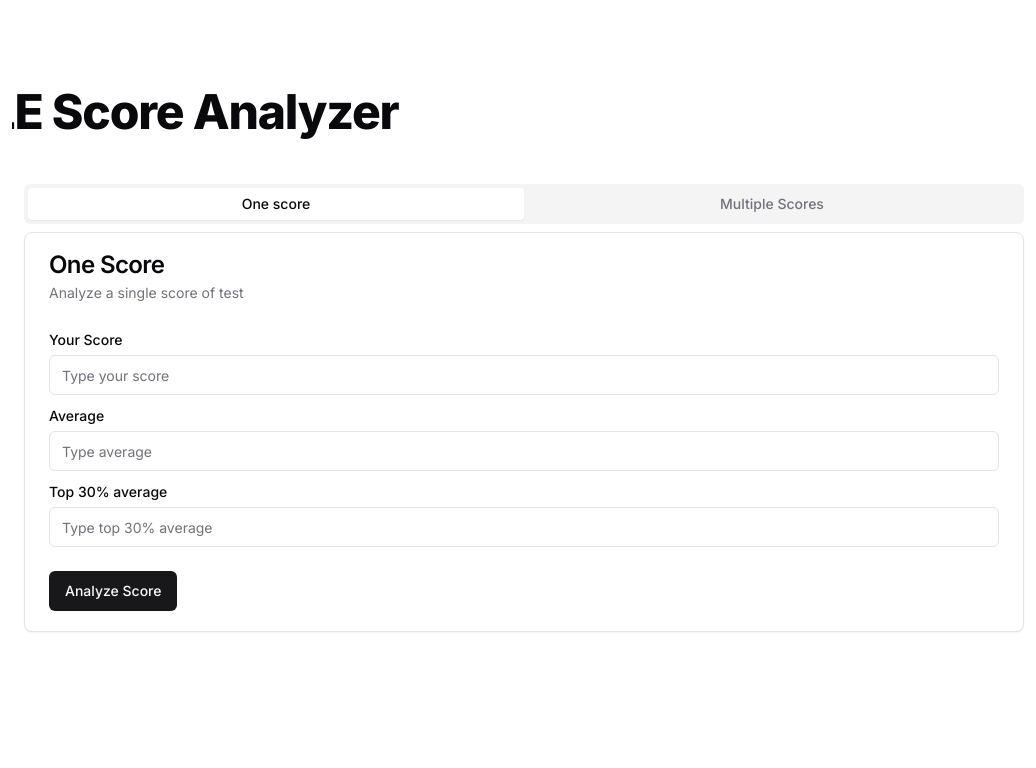
Test: ILE Score Analyzer › should show error if top 30% average is not provided
Type "75" into the number field with id "your_score". click: (524, 375)
box: top-left (49, 355), bottom-right (999, 395)
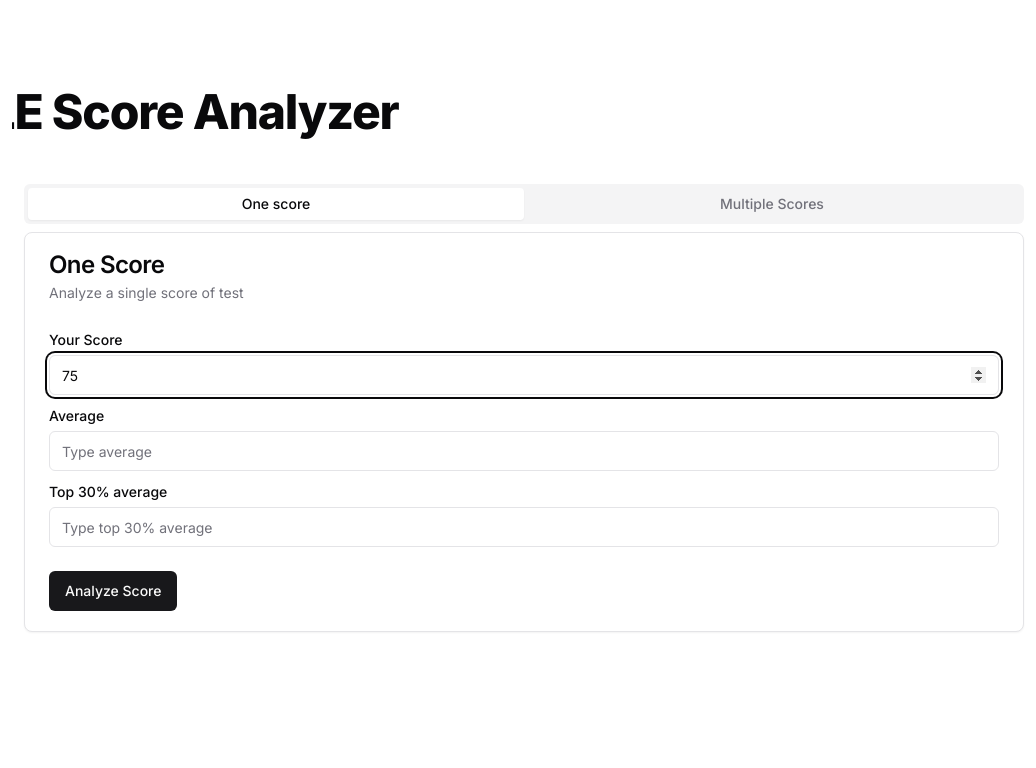
Type "85" into the number field with id "average". click: (524, 451)
box: top-left (49, 431), bottom-right (999, 471)
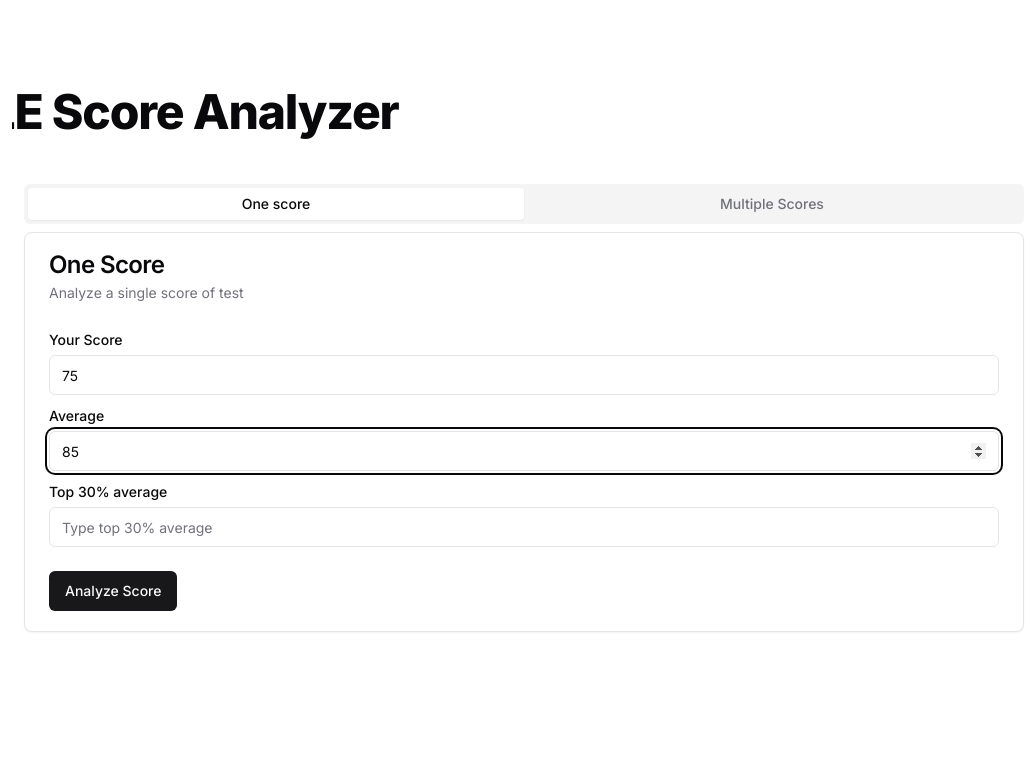
Click the button "Analyze Score". click: click(114, 591)
box: top-left (49, 571), bottom-right (178, 611)
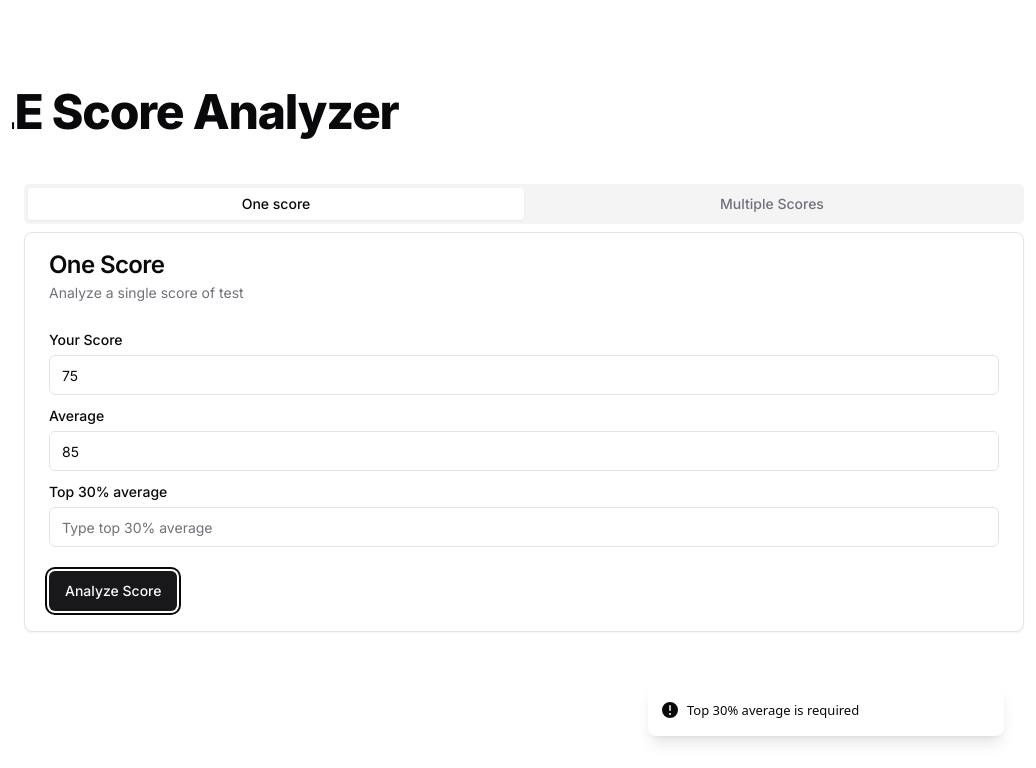
Expected: the text "Top 30% average is required" is shown, top-left (687, 700), bottom-right (859, 720)
